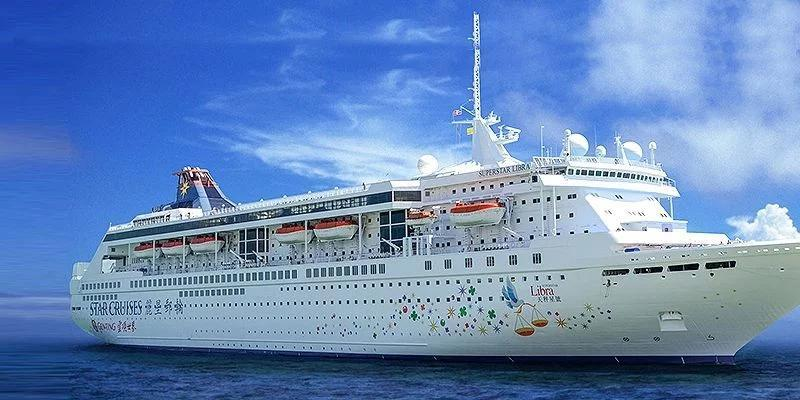youlun: (57, 146, 764, 356)
